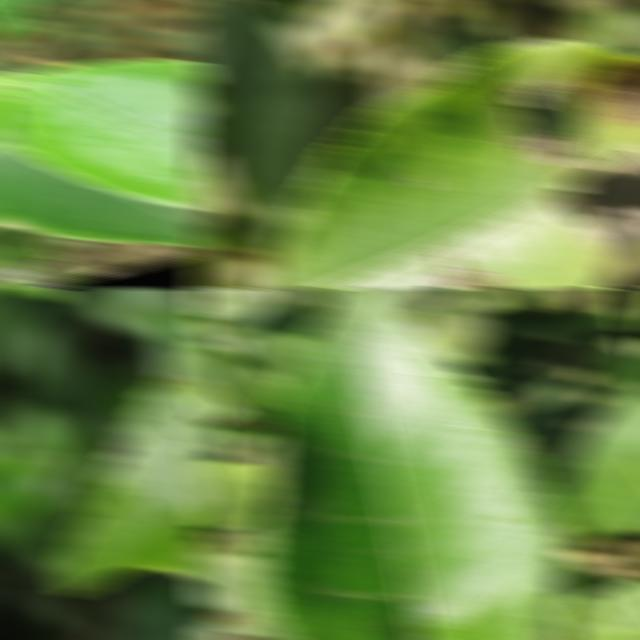Leaf: (256, 288, 572, 640), (262, 39, 640, 288), (53, 344, 206, 595), (0, 59, 206, 210), (205, 0, 325, 240), (0, 115, 206, 248), (561, 379, 640, 539), (221, 303, 321, 379), (103, 573, 206, 640), (190, 342, 288, 411), (19, 315, 91, 406), (500, 374, 585, 444), (72, 288, 190, 337), (0, 452, 64, 542), (190, 461, 269, 530), (557, 579, 640, 640), (146, 306, 206, 380), (192, 288, 319, 318), (190, 556, 238, 610), (509, 288, 576, 312)
